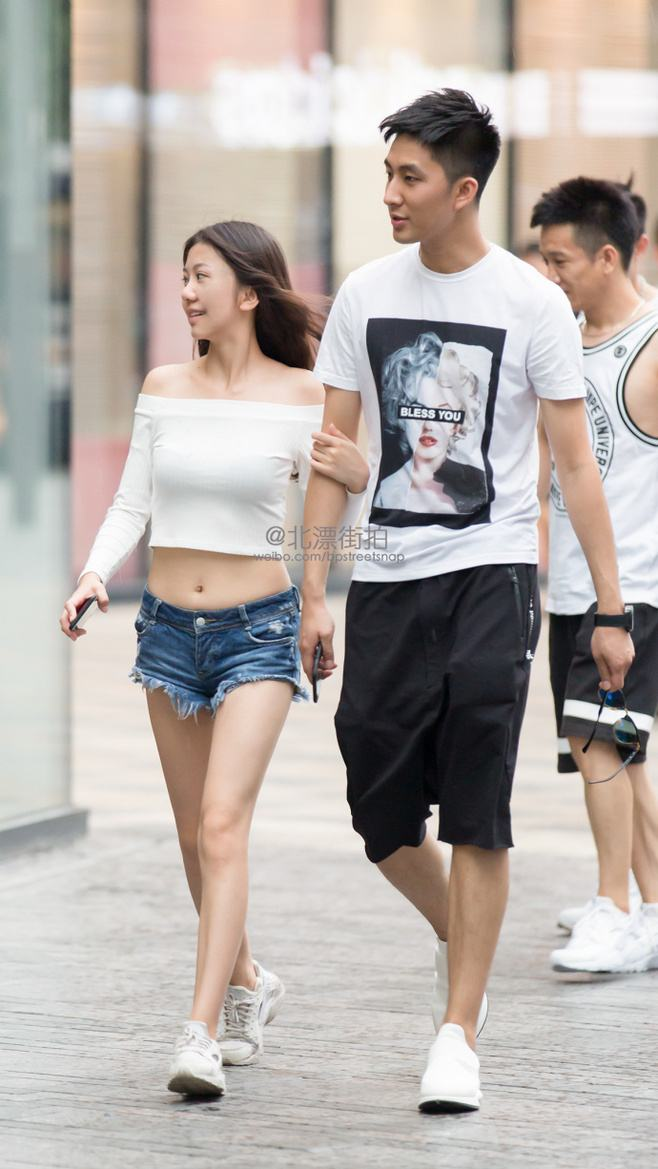person: (301, 78, 571, 1025), (130, 168, 351, 1103)
